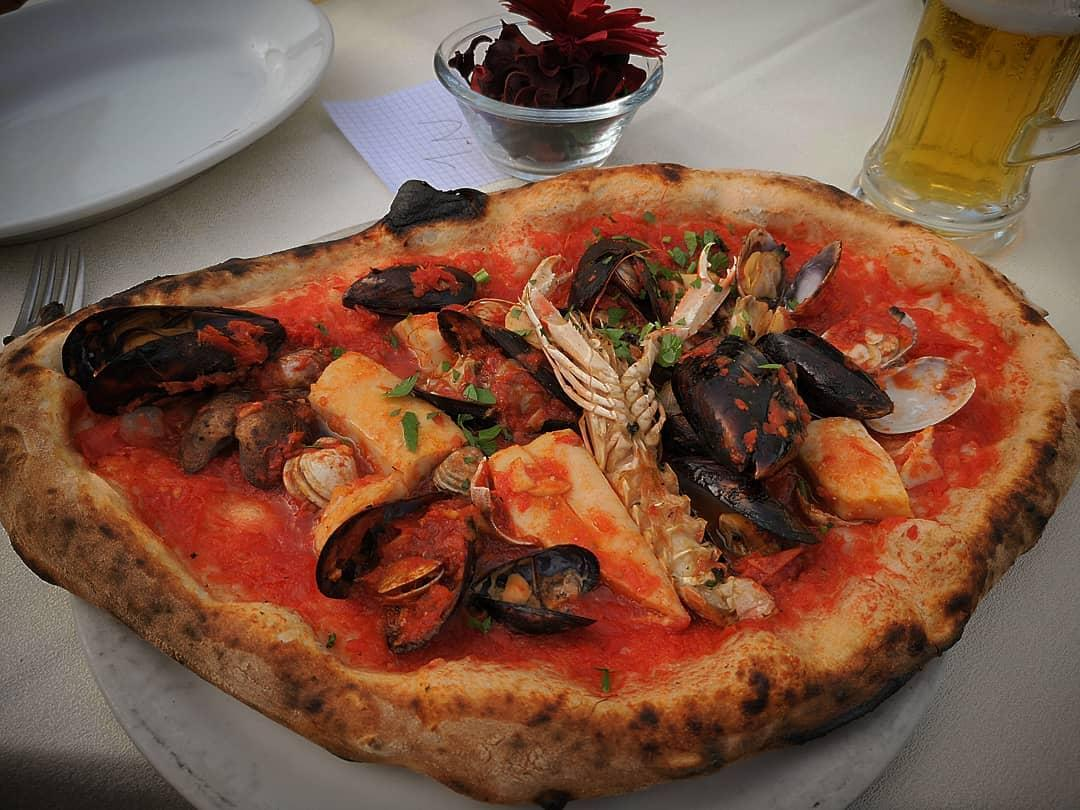Pizza: (0, 163, 1080, 799)
